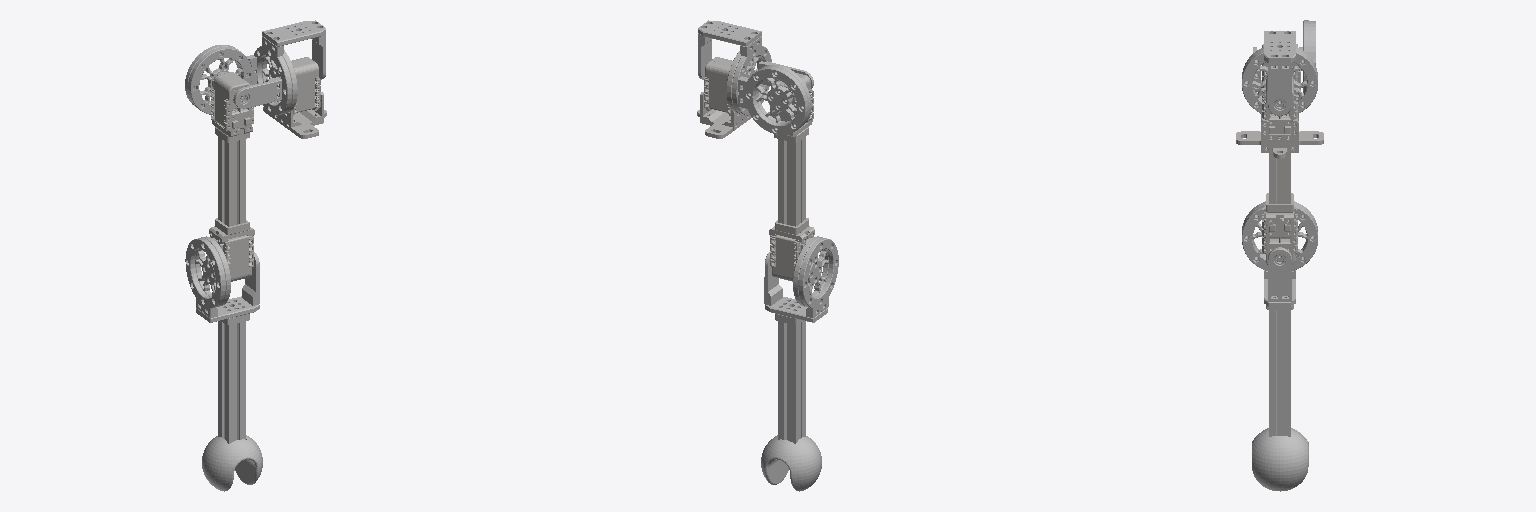
The robot description file, URDF, robot "right arm Walter":
<?xml version="1.0" encoding="utf-8"?>
<!-- This URDF was automatically created by SolidWorks to URDF Exporter! Originally created by Stephen Brawner (brawner@gmail.com) 
     Commit Version: 1.6.0-4-g7f85cfe  Build Version: 1.6.7995.38578
     For more information, please see http://wiki.ros.org/sw_urdf_exporter -->
<robot name="right arm Walter">
  <link name="world"/>

  <joint name="world_to_base" type="fixed">
    <parent link="world"/>
    <child link="base_link"/>
    <origin xyz="0 0 0.5" rpy="0 -1.5708 0"/>
  </joint>
  <link
    name="base_link">
    <inertial>
      <origin
        xyz="-0.0208759840382558 2.28906328957612E-05 -0.0199126468532334"
        rpy="0 0 0" />
      <mass
        value="0.0569859937754465" />
      <inertia
        ixx="1.14535467104961E-05"
        ixy="1.03127498835634E-08"
        ixz="2.043686021369E-07"
        iyy="1.31200553450412E-05"
        iyz="-1.49941182774934E-09"
        izz="1.41568758022781E-05" />
    </inertial>
    <visual>
      <origin
        xyz="0 0 0"
        rpy="0 0 0" />
      <geometry>
        <mesh
          filename="package://right_arm_walter/meshes/base_link.STL" />
      </geometry>
      <material
        name="">
        <color
          rgba="0.745098039215686 0.737254901960784 0.729411764705882 1" />
      </material>
    </visual>
    <collision>
      <origin
        xyz="0 0 0"
        rpy="0 0 0" />
      <geometry>
        <mesh
          filename="package://right_arm_walter/meshes/base_link.STL" />
      </geometry>
    </collision>
  </link>
  <link
    name="pitch_Link">
    <inertial>
      <origin
        xyz="0.0073209301272586 0.008048317009343 0.0188728264009675"
        rpy="0 0 0" />
      <mass
        value="0.072743977696853" />
      <inertia
        ixx="2.66616432713888E-05"
        ixy="-1.04834788040772E-07"
        ixz="-5.14822538639029E-09"
        iyy="3.90800734436557E-05"
        iyz="1.03404208618845E-08"
        izz="3.48818996867284E-05" />
    </inertial>
    <visual>
      <origin
        xyz="0 0 0"
        rpy="0 0 0" />
      <geometry>
        <mesh
          filename="package://right_arm_walter/meshes/pitch_Link.STL" />
      </geometry>
      <material
        name="">
        <color
          rgba="0.749019607843137 0.749019607843137 0.749019607843137 1" />
      </material>
    </visual>
    <collision>
      <origin
        xyz="0 0 0"
        rpy="0 0 0" />
      <geometry>
        <mesh
          filename="package://right_arm_walter/meshes/pitch_Link.STL" />
      </geometry>
    </collision>
  </link>
  <joint
    name="pitch_joint"
    type="revolute">
    <origin
      xyz="0 0 0"
      rpy="0 0 0" />
    <parent
      link="base_link" />
    <child
      link="pitch_Link" />
    <axis
      xyz="0 0 1" />
    <limit
      lower="-1.5708"
      upper="1.5708"
      effort="5"
      velocity="1.0" />
  </joint>
  <link
    name="roll_Link">
    <inertial>
      <origin
        xyz="0.0954999999877982 0.000459012158928185 -0.0206571696046805"
        rpy="0 0 0" />
      <mass
        value="0.116418920121789" />
      <inertia
        ixx="1.63704158763393E-05"
        ixy="2.01436691402085E-07"
        ixz="-2.01180500705936E-07"
        iyy="3.82244968314702E-05"
        iyz="2.99881525603628E-09"
        izz="3.82244968249053E-05" />
    </inertial>
    <visual>
      <origin
        xyz="0 0 0"
        rpy="0 0 0" />
      <geometry>
        <mesh
          filename="package://right_arm_walter/meshes/roll_Link.STL" />
      </geometry>
      <material
        name="">
        <color
          rgba="0.745098039215686 0.737254901960784 0.729411764705882 1" />
      </material>
    </visual>
    <collision>
      <origin
        xyz="0 0 0"
        rpy="0 0 0" />
      <geometry>
        <mesh
          filename="package://right_arm_walter/meshes/roll_Link.STL" />
      </geometry>
    </collision>
  </link>
  <joint
    name="roll_joint"
    type="revolute">
    <origin
      xyz="0 0.021 0.054"
      rpy="1.5708 0 -3.1416" />
    <parent
      link="pitch_Link" />
    <child
      link="roll_Link" />
    <axis
      xyz="0 0 1" />
    <limit
      lower="0"
      upper="1.5708"
      effort="5"
      velocity="1.0" />
  </joint>
  <link
    name="elbow_Link">
    <inertial>
      <origin
        xyz="0.12641300084617 -5.16886325070687E-05 -0.0161809809317491"
        rpy="0 0 0" />
      <mass
        value="0.129290996002868" />
      <inertia
        ixx="4.2874125431238E-05"
        ixy="-8.03374206887894E-11"
        ixz="-8.87199584138601E-09"
        iyy="8.44333519427061E-05"
        iyz="-7.08397852245953E-10"
        izz="8.42296132718026E-05" />
    </inertial>
    <visual>
      <origin
        xyz="0 0 0"
        rpy="0 0 0" />
      <geometry>
        <mesh
          filename="package://right_arm_walter/meshes/elbow_Link.STL" />
      </geometry>
      <material
        name="">
        <color
          rgba="0.749019607843137 0.749019607843137 0.749019607843137 1" />
      </material>
    </visual>
    <collision>
      <origin
        xyz="0 0 0"
        rpy="0 0 0" />
      <geometry>
        <mesh
          filename="package://right_arm_walter/meshes/elbow_Link.STL" />
      </geometry>
    </collision>
  </link>
  <joint
    name="elbow_joint"
    type="revolute">
    <origin
      xyz="0.191 0.0212 -0.021"
      rpy="-1.5708 0 0" />
    <parent
      link="roll_Link" />
    <child
      link="elbow_Link" />
    <axis
      xyz="0 0 1" />
    <limit
      lower="0"
      upper="1.5708"
      effort="5"
      velocity="1.0" />
  </joint>
</robot>

--- What the picture shows (computed from the rendered views, not written in the file) ---
Views: 3 orthographic renders of the robot side by side, from view 1: azimuth 30°, elevation 25°; view 2: azimuth 150°, elevation 25°; view 3: azimuth 270°, elevation 25°.
Robot: right arm Walter — 5 links, 4 joints (3 revolute, 1 fixed); root link world; default pose: every joint at zero.
Links seen in each view (by area): view 1: elbow_Link, pitch_Link, roll_Link, base_link; view 2: elbow_Link, pitch_Link, roll_Link, base_link; view 3: elbow_Link, pitch_Link, roll_Link, base_link.
Boxes of the visible links, x1,y1,x2,y2 form: elbow_Link: (185,236,262,491); pitch_Link: (185,20,325,115); roll_Link: (209,72,254,281); base_link: (263,57,326,138); elbow_Link: (761,236,838,491); pitch_Link: (698,20,813,134); roll_Link: (769,73,814,281); base_link: (697,57,751,138); elbow_Link: (1242,201,1317,491); pitch_Link: (1242,20,1317,115); roll_Link: (1261,44,1302,264); base_link: (1236,77,1323,158).
Bounding box of the posed robot: 0.1409 × 0.08 × 0.4759 m (x, y, z).
4 mesh visuals loaded from 4 distinct referenced files (4 binary STL).
